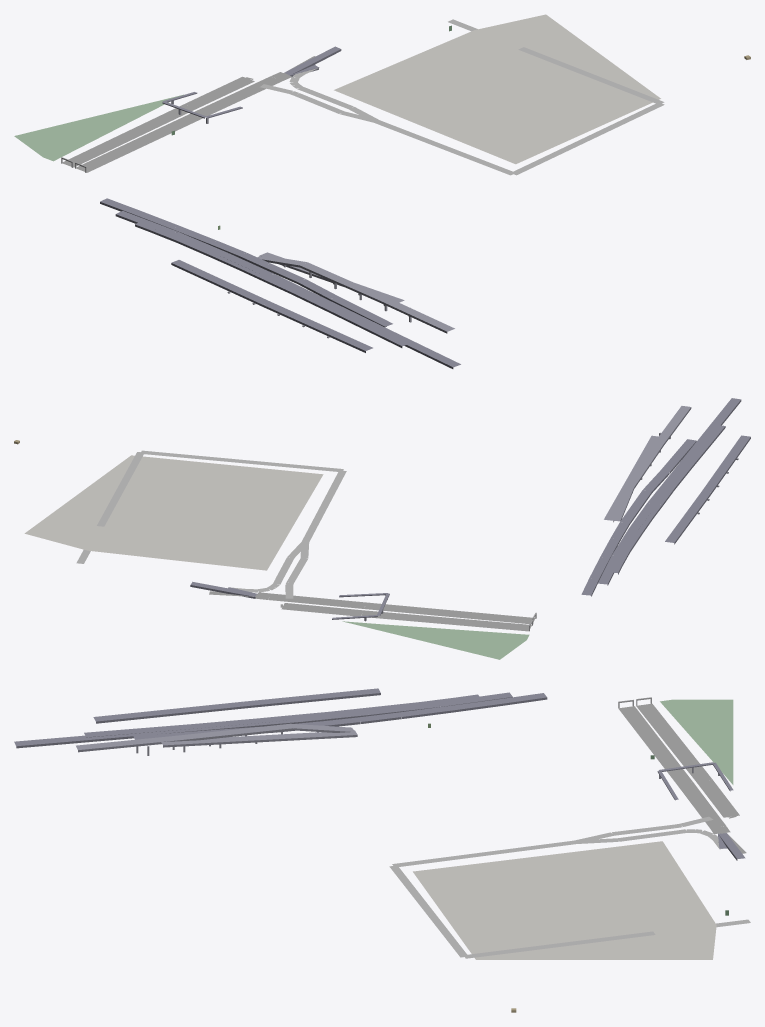
3 views of the same model, one above another, from view 1: azimuth 30°, elevation 25°; view 2: azimuth 150°, elevation 25°; view 3: azimuth 270°, elevation 25° (orthographic). The views are drawn at different scales.
Bounding box in the file's own units: 617 × 11.99 × 594.
